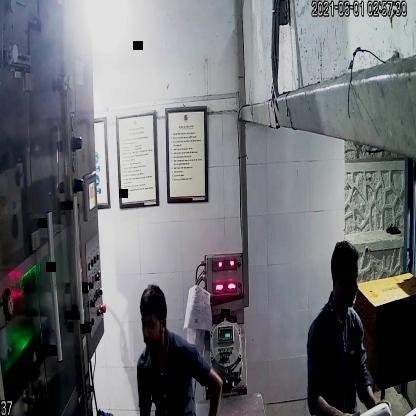no_goggles: (136, 312, 171, 336)
